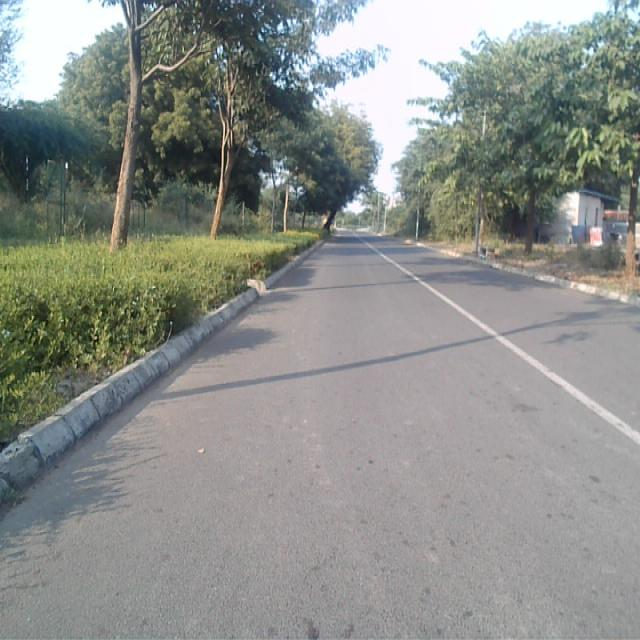lane: (0, 232, 640, 640)
